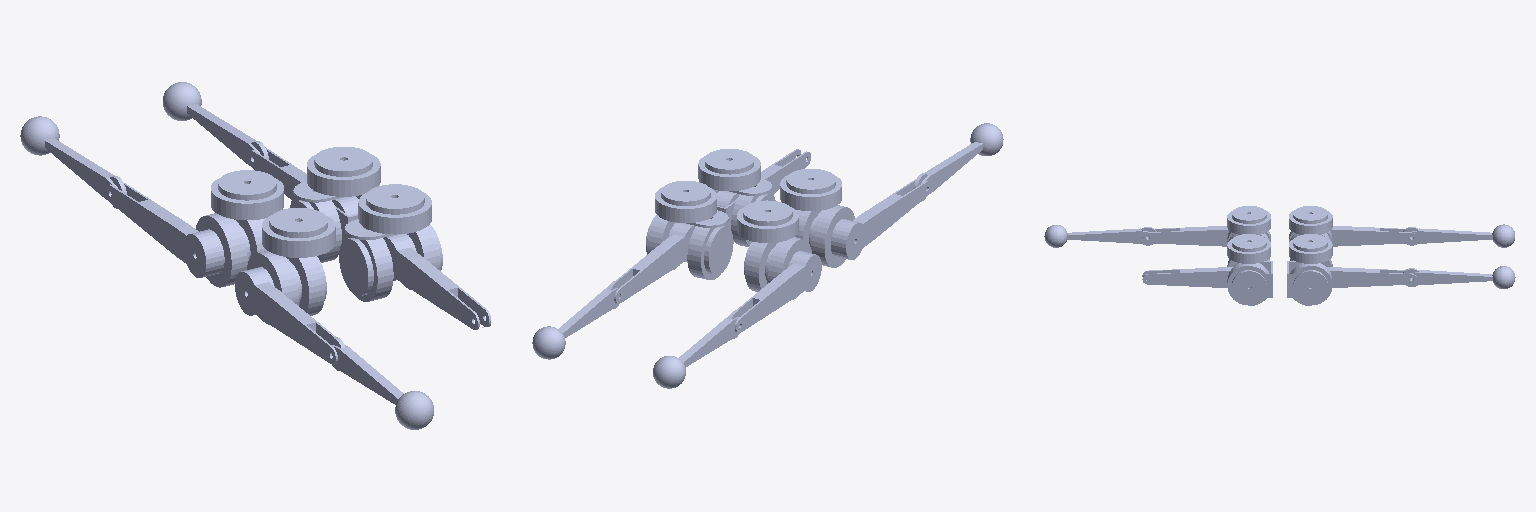
The robot description file, URDF, robot "hexapod_v3":
<?xml version="1.0" encoding="utf-8"?>
<robot name="hexapod_v3">
  <link name="base_link">
    <inertial>
      <origin xyz="0.0012365 5.5511E-17 0.028671" rpy="0 0 0" />
      <mass value="10.399" />
      <inertia ixx="0.055" ixy="0.000" ixz="0.001" iyy="0.132" iyz="0.000" izz="0.160" />
    </inertial>
    <visual>
      <origin xyz="0 0 0" rpy="0 0 0" />
      <geometry>
        <mesh filename="package://hexapod_v3/meshes/base_link.STL" />
      </geometry>
      <material name="">
        <color rgba="1 1 1 1" />
      </material>
    </visual>
    <collision>
      <origin xyz="0 0 0" rpy="0 0 0" />
      <geometry>
        <mesh filename="package://hexapod_v3/meshes/base_link.STL" />
      </geometry>
    </collision>
  </link>

  <!-- 腿 1: 右前 (rf) -->
  <link name="rfl1">
    <inertial>
      <origin xyz="0 0 0.0013145" rpy="0 0 0" />
      <mass value="0.576" />
      <inertia ixx="0.000" ixy="0.000" ixz="0.000" iyy="0.000" iyz="0.000" izz="0.001" />
    </inertial>
    <visual>
      <origin xyz="0 0 0" rpy="0 0 0" />
      <geometry>
        <mesh filename="package://hexapod_v3/meshes/rfl1.STL" />
      </geometry>
      <material name="">
        <color rgba="0.79216 0.81961 0.93333 1" />
      </material>
    </visual>
    <collision>
      <origin xyz="0 0 0" rpy="0 0 0" />
      <geometry>
        <mesh filename="package://hexapod_v3/meshes/rfl1.STL" />
      </geometry>
    </collision>
  </link>
  <joint name="rfj1" type="revolute">
    <origin xyz="0.14185 -0.0655 -0.01975" rpy="0 0 0" />
    <parent link="base_link" />
    <child link="rfl1" />
    <axis xyz="0 0 -1" />
    <limit lower="-6" upper="6" effort="100" velocity="10" />
    <dynamics damping="0.1" friction="0.01" />
  </joint>
  <link name="rfl2">
    <inertial>
      <origin xyz="-0.032218 -0.0039271 6.5393E-07" rpy="0 0 0" />
      <mass value="0.961" />
      <inertia ixx="0.001" ixy="0.000" ixz="0.000" iyy="0.002" iyz="0.000" izz="0.002" />
    </inertial>
    <visual>
      <origin xyz="0 0 0" rpy="0 0 0" />
      <geometry>
        <mesh filename="package://hexapod_v3/meshes/rfl2.STL" />
      </geometry>
      <material name="">
        <color rgba="0.79216 0.81961 0.93333 1" />
      </material>
    </visual>
    <collision>
      <origin xyz="0 0 0" rpy="0 0 0" />
      <geometry>
        <mesh filename="package://hexapod_v3/meshes/rfl2.STL" />
      </geometry>
    </collision>
  </link>
  <joint name="rfj2" type="revolute">
    <origin xyz="0.0385 0 -0.06575" rpy="0 0 0" />
    <parent link="rfl1" />
    <child link="rfl2" />
    <axis xyz="-1 0 0" />
    <limit lower="-6" upper="6" effort="100" velocity="10" />
    <dynamics damping="0.1" friction="0.01" />
  </joint>
  <link name="rfl3">
    <inertial>
      <origin xyz="-5.5511E-17 -0.13449 -2.7756E-17" rpy="0 0 0" />
      <mass value="0.124" />
      <inertia ixx="0.003" ixy="0.000" ixz="0.000" iyy="0.000" iyz="0.000" izz="0.003" />
    </inertial>
    <visual>
      <origin xyz="0 0 0" rpy="0 0 0" />
      <geometry>
        <mesh filename="package://hexapod_v3/meshes/rfl3.STL" />
      </geometry>
      <material name="">
        <color rgba="0.79216 0.81961 0.93333 1" />
      </material>
    </visual>
    <collision>
      <origin xyz="0 0 0" rpy="0 0 0" />
      <geometry>
        <mesh filename="package://hexapod_v3/meshes/rfl3.STL" />
      </geometry>
    </collision>
  </link>
  <joint name="rfj3" type="revolute">
    <origin xyz="0.02875 -0.216 0" rpy="0 0 0" />
    <parent link="rfl2" />
    <child link="rfl3" />
    <axis xyz="1 0 0" />
    <limit lower="-6" upper="6" effort="100" velocity="10" />
    <dynamics damping="0.1" friction="0.01" />
  </joint>

  <link name="leg_0_end" />
  <joint name="leg_0_end_joint" type="fixed">
    <origin xyz="0 -0.2 0" rpy="0 0 0" />
    <parent link="rfl3" />
    <child link="leg_0_end" />
  </joint>

  <!-- 腿 2: 左前 (lf) -->
  <link name="lfl4">
    <inertial>
      <origin xyz="0 2.7756E-17 0.0013145" rpy="0 0 0" />
      <mass value="0.576" />
      <inertia ixx="0.000" ixy="0.000" ixz="0.000" iyy="0.000" iyz="0.000" izz="0.001" />
    </inertial>
    <visual>
      <origin xyz="0 0 0" rpy="0 0 0" />
      <geometry>
        <mesh filename="package://hexapod_v3/meshes/lfl4.STL" />
      </geometry>
      <material name="">
        <color rgba="0.79216 0.81961 0.93333 1" />
      </material>
    </visual>
    <collision>
      <origin xyz="0 0 0" rpy="0 0 0" />
      <geometry>
        <mesh filename="package://hexapod_v3/meshes/lfl4.STL" />
      </geometry>
    </collision>
  </link>
  <joint name="lfj4" type="revolute">
    <origin xyz="0.14185 0.0655 -0.01975" rpy="0 0 0" />
    <parent link="base_link" />
    <child link="lfl4" />
    <axis xyz="0 0 -1" />
    <limit lower="-6" upper="6" effort="100" velocity="10" />
    <dynamics damping="0.1" friction="0.01" />
  </joint>
  <link name="lfl5">
    <inertial>
      <origin xyz="-0.032218 0.0039271 -6.5368E-07" rpy="0 0 0" />
      <mass value="0.961" />
      <inertia ixx="0.001" ixy="0.000" ixz="0.000" iyy="0.002" iyz="0.000" izz="0.002" />
    </inertial>
    <visual>
      <origin xyz="0 0 0" rpy="0 0 0" />
      <geometry>
        <mesh filename="package://hexapod_v3/meshes/lfl5.STL" />
      </geometry>
      <material name="">
        <color rgba="0.79216 0.81961 0.93333 1" />
      </material>
    </visual>
    <collision>
      <origin xyz="0 0 0" rpy="0 0 0" />
      <geometry>
        <mesh filename="package://hexapod_v3/meshes/lfl5.STL" />
      </geometry>
    </collision>
  </link>
  <joint name="lfj5" type="revolute">
    <origin xyz="0.0385 0 -0.06575" rpy="0 0 0" />
    <parent link="lfl4" />
    <child link="lfl5" />
    <axis xyz="-1 0 0" />
    <limit lower="-6" upper="6" effort="100" velocity="10" />
    <dynamics damping="0.1" friction="0.01" />
  </joint>
  <link name="lfl6">
    <inertial>
      <origin xyz="9.1871E-15 0.13449 0.00015249" rpy="0 0 0" />
      <mass value="0.124" />
      <inertia ixx="0.003" ixy="0.000" ixz="0.000" iyy="0.000" iyz="0.000" izz="0.003" />
    </inertial>
    <visual>
      <origin xyz="0 0 0" rpy="0 0 0" />
      <geometry>
        <mesh filename="package://hexapod_v3/meshes/lfl6.STL" />
      </geometry>
      <material name="">
        <color rgba="0.79216 0.81961 0.93333 1" />
      </material>
    </visual>
    <collision>
      <origin xyz="0 0 0" rpy="0 0 0" />
      <geometry>
        <mesh filename="package://hexapod_v3/meshes/lfl6.STL" />
      </geometry>
    </collision>
  </link>
  <joint name="lfj6" type="revolute">
    <origin xyz="0.02875 0.216 0" rpy="0 0 0" />
    <parent link="lfl5" />
    <child link="lfl6" />
    <axis xyz="1 0 0" />
    <limit lower="-6" upper="6" effort="100" velocity="10" />
    <dynamics damping="0.1" friction="0.01" />
  </joint>
  <link name="leg_1_end" />
  <joint name="leg_1_end_joint" type="fixed">
    <origin xyz="0 0.2 0" rpy="0 0 0" />
    <parent link="lfl6" />
    <child link="leg_1_end" />
  </joint>

  <!-- 腿 3: 右中 (rm) -->
  <link name="rml7">
    <inertial>
      <origin xyz="-0.0017584 -1.3878E-17 0.00056229" rpy="0 0 0" />
      <mass value="0.601" />
      <inertia ixx="0.000" ixy="0.000" ixz="0.000" iyy="0.000" iyz="0.000" izz="0.001" />
    </inertial>
    <visual>
      <origin xyz="0 0 0" rpy="0 0 0" />
      <geometry>
        <mesh filename="package://hexapod_v3/meshes/rml7.STL" />
      </geometry>
      <material name="">
        <color rgba="0.79216 0.81961 0.93333 1" />
      </material>
    </visual>
    <collision>
      <origin xyz="0 0 0" rpy="0 0 0" />
      <geometry>
        <mesh filename="package://hexapod_v3/meshes/rml7.STL" />
      </geometry>
    </collision>
  </link>
  <joint name="rmj7" type="revolute">
    <origin xyz="0 -0.0655 -0.01975" rpy="0 0 0" />
    <parent link="base_link" />
    <child link="rml7" />
    <axis xyz="0 0 -1" />
    <limit lower="-6" upper="6" effort="100" velocity="10" />
    <dynamics damping="0.1" friction="0.01" />
  </joint>
  <link name="rml8">
    <inertial>
      <origin xyz="-0.058726 -0.00053289 -5.8777E-07" rpy="0 0 0" />
      <mass value="1.088" />
      <inertia ixx="0.001" ixy="0.000" ixz="0.000" iyy="0.006" iyz="0.000" izz="0.006" />
    </inertial>
    <visual>
      <origin xyz="0 0 0" rpy="0 0 0" />
      <geometry>
        <mesh filename="package://hexapod_v3/meshes/rml8.STL" />
      </geometry>
      <material name="">
        <color rgba="0.79216 0.81961 0.93333 1" />
      </material>
    </visual>
    <collision>
      <origin xyz="0 0 0" rpy="0 0 0" />
      <geometry>
        <mesh filename="package://hexapod_v3/meshes/rml8.STL" />
      </geometry>
    </collision>
  </link>
  <joint name="rmj8" type="revolute">
    <origin xyz="0.02875 0 -0.06575" rpy="0 0 0" />
    <parent link="rml7" />
    <child link="rml8" />
    <axis xyz="1 0 0" />
    <limit lower="-6" upper="6" effort="100" velocity="10" />
    <dynamics damping="0.1" friction="0.01" />
  </joint>
  <link name="rml9">
    <inertial>
      <origin xyz="-9.2149E-15 -0.13449 0.00015249" rpy="0 0 0" />
      <mass value="0.124" />
      <inertia ixx="0.003" ixy="0.000" ixz="0.000" iyy="0.000" iyz="0.000" izz="0.003" />
    </inertial>
    <visual>
      <origin xyz="0 0 0" rpy="0 0 0" />
      <geometry>
        <mesh filename="package://hexapod_v3/meshes/rml9.STL" />
      </geometry>
      <material name="">
        <color rgba="0.79216 0.81961 0.93333 1" />
      </material>
    </visual>
    <collision>
      <origin xyz="0 0 0" rpy="0 0 0" />
      <geometry>
        <mesh filename="package://hexapod_v3/meshes/rml9.STL" />
      </geometry>
    </collision>
  </link>
  <joint name="rmj9" type="revolute">
    <origin xyz="-0.02875 -0.216 0" rpy="0 0 0" />
    <parent link="rml8" />
    <child link="rml9" />
    <axis xyz="-1 0 0" />
    <limit lower="-6" upper="6" effort="100" velocity="10" />
    <dynamics damping="0.1" friction="0.01" />
  </joint>
  <link name="leg_2_end" />
  <joint name="leg_2_end_joint" type="fixed">
    <origin xyz="0 -0.2 0" rpy="0 0 0" />
    <parent link="rml9" />
    <child link="leg_2_end" />
  </joint>

  <!-- 腿 4: 左中 (lm) -->
  <link name="lml10">
    <inertial>
      <origin xyz="-0.0017584 -2.7756E-17 0.00056229" rpy="0 0 0" />
      <mass value="0.601" />
      <inertia ixx="0.000" ixy="0.000" ixz="0.000" iyy="0.000" iyz="0.000" izz="0.001" />
    </inertial>
    <visual>
      <origin xyz="0 0 0" rpy="0 0 0" />
      <geometry>
        <mesh filename="package://hexapod_v3/meshes/lml10.STL" />
      </geometry>
      <material name="">
        <color rgba="0.79216 0.81961 0.93333 1" />
      </material>
    </visual>
    <collision>
      <origin xyz="0 0 0" rpy="0 0 0" />
      <geometry>
        <mesh filename="package://hexapod_v3/meshes/lml10.STL" />
      </geometry>
    </collision>
  </link>
  <joint name="lmj10" type="revolute">
    <origin xyz="0 0.0655 -0.01975" rpy="0 0 0" />
    <parent link="base_link" />
    <child link="lml10" />
    <axis xyz="0 0 -1" />
    <limit lower="-6" upper="6" effort="100" velocity="10" />
    <dynamics damping="0.1" friction="0.01" />
  </joint>
  <link name="lml11">
    <inertial>
      <origin xyz="-0.058726 0.00053289 5.8777E-07" rpy="0 0 0" />
      <mass value="1.088" />
      <inertia ixx="0.001" ixy="0.000" ixz="0.000" iyy="0.006" iyz="0.000" izz="0.006" />
    </inertial>
    <visual>
      <origin xyz="0 0 0" rpy="0 0 0" />
      <geometry>
        <mesh filename="package://hexapod_v3/meshes/lml11.STL" />
      </geometry>
      <material name="">
        <color rgba="0.79216 0.81961 0.93333 1" />
      </material>
    </visual>
    <collision>
      <origin xyz="0 0 0" rpy="0 0 0" />
      <geometry>
        <mesh filename="package://hexapod_v3/meshes/lml11.STL" />
      </geometry>
    </collision>
  </link>
  <joint name="lmj11" type="revolute">
    <origin xyz="0.02875 0 -0.06575" rpy="0 0 0" />
    <parent link="lml10" />
    <child link="lml11" />
    <axis xyz="1 0 0" />
    <limit lower="-6" upper="6" effort="100" velocity="10" />
    <dynamics damping="0.1" friction="0.01" />
  </joint>
  <link name="lml12">
    <inertial>
      <origin xyz="8.6919E-12 0.13449 -0.00015249" rpy="0 0 0" />
      <mass value="0.124" />
      <inertia ixx="0.003" ixy="0.000" ixz="0.000" iyy="0.000" iyz="0.000" izz="0.003" />
    </inertial>
    <visual>
      <origin xyz="0 0 0" rpy="0 0 0" />
      <geometry>
        <mesh filename="package://hexapod_v3/meshes/lml12.STL" />
      </geometry>
      <material name="">
        <color rgba="0.79216 0.81961 0.93333 1" />
      </material>
    </visual>
    <collision>
      <origin xyz="0 0 0" rpy="0 0 0" />
      <geometry>
        <mesh filename="package://hexapod_v3/meshes/lml12.STL" />
      </geometry>
    </collision>
  </link>
  <joint name="lmj12" type="revolute">
    <origin xyz="-0.02875 0.216 0" rpy="0 0 0" />
    <parent link="lml11" />
    <child link="lml12" />
    <axis xyz="-1 0 0" />
    <limit lower="-6" upper="6" effort="100" velocity="10" />
    <dynamics damping="0.1" friction="0.01" />
  </joint>
  <link name="leg_3_end" />
  <joint name="leg_3_end_joint" type="fixed">
    <origin xyz="0 0.2 0" rpy="0 0 0" />
    <parent link="lml12" />
    <child link="leg_3_end" />
  </joint>

  <!-- 腿 5: 右后 (rb) -->
  <link name="rbl13">
    <inertial>
      <origin xyz="0 0 0.0013145" rpy="0 0 0" />
      <mass value="0.576" />
      <inertia ixx="0.000" ixy="0.000" ixz="0.000" iyy="0.000" iyz="0.000" izz="0.001" />
    </inertial>
    <visual>
      <origin xyz="0 0 0" rpy="0 0 0" />
      <geometry>
        <mesh filename="package://hexapod_v3/meshes/rbl13.STL" />
      </geometry>
      <material name="">
        <color rgba="0.79216 0.81961 0.93333 1" />
      </material>
    </visual>
    <collision>
      <origin xyz="0 0 0" rpy="0 0 0" />
      <geometry>
        <mesh filename="package://hexapod_v3/meshes/rbl13.STL" />
      </geometry>
    </collision>
  </link>
  <joint name="rbj13" type="revolute">
    <origin xyz="-0.14185 -0.0655 -0.01975" rpy="0 0 0" />
    <parent link="base_link" />
    <child link="rbl13" />
    <axis xyz="0 0 -1" />
    <limit lower="-6" upper="6" effort="100" velocity="10" />
    <dynamics damping="0.1" friction="0.01" />
  </joint>
  <link name="rbl14">
    <inertial>
      <origin xyz="0.032218 -0.0039271 -6.5368E-07" rpy="0 0 0" />
      <mass value="0.961" />
      <inertia ixx="0.001" ixy="0.000" ixz="0.000" iyy="0.002" iyz="0.000" izz="0.002" />
    </inertial>
    <visual>
      <origin xyz="0 0 0" rpy="0 0 0" />
      <geometry>
        <mesh filename="package://hexapod_v3/meshes/rbl14.STL" />
      </geometry>
      <material name="">
        <color rgba="0.79216 0.81961 0.93333 1" />
      </material>
    </visual>
    <collision>
      <origin xyz="0 0 0" rpy="0 0 0" />
      <geometry>
        <mesh filename="package://hexapod_v3/meshes/rbl14.STL" />
      </geometry>
    </collision>
  </link>
  <joint name="rbj14" type="revolute">
    <origin xyz="-0.0385 0 -0.06575" rpy="0 0 0" />
    <parent link="rbl13" />
    <child link="rbl14" />
    <axis xyz="1 0 0" />
    <limit lower="-6" upper="6" effort="100" velocity="10" />
    <dynamics damping="0.1" friction="0.01" />
  </joint>
  <link name="rbl15">
    <inertial>
      <origin xyz="-8.699E-12 -0.13449 -4.4688E-05" rpy="0 0 0" />
      <mass value="0.124" />
      <inertia ixx="0.003" ixy="0.000" ixz="0.000" iyy="0.000" iyz="0.000" izz="0.003" />
    </inertial>
    <visual>
      <origin xyz="0 0 0" rpy="0 0 0" />
      <geometry>
        <mesh filename="package://hexapod_v3/meshes/rbl15.STL" />
      </geometry>
      <material name="">
        <color rgba="0.79216 0.81961 0.93333 1" />
      </material>
    </visual>
    <collision>
      <origin xyz="0 0 0" rpy="0 0 0" />
      <geometry>
        <mesh filename="package://hexapod_v3/meshes/rbl15.STL" />
      </geometry>
    </collision>
  </link>
  <joint name="rbj15" type="revolute">
    <origin xyz="-0.02875 -0.216 0" rpy="0 0 0" />
    <parent link="rbl14" />
    <child link="rbl15" />
    <axis xyz="-1 0 0" />
    <limit lower="-6" upper="6" effort="100" velocity="10" />
    <dynamics damping="0.1" friction="0.01" />
  </joint>
  <link name="leg_4_end" />
  <joint name="leg_4_end_joint" type="fixed">
    <origin xyz="0 -0.2 0" rpy="0 0 0" />
    <parent link="rbl15" />
    <child link="leg_4_end" />
  </joint>

  <!-- 腿 6: 左后 (lb) -->
  <link name="lbl16">
    <inertial>
      <origin xyz="0 0 0.0013145" rpy="0 0 0" />
      <mass value="0.576" />
      <inertia ixx="0.000" ixy="0.000" ixz="0.000" iyy="0.000" iyz="0.000" izz="0.001" />
    </inertial>
    <visual>
      <origin xyz="0 0 0" rpy="0 0 0" />
      <geometry>
        <mesh filename="package://hexapod_v3/meshes/lbl16.STL" />
      </geometry>
      <material name="">
        <color rgba="0.79216 0.81961 0.93333 1" />
      </material>
    </visual>
    <collision>
      <origin xyz="0 0 0" rpy="0 0 0" />
      <geometry>
        <mesh filename="package://hexapod_v3/meshes/lbl16.STL" />
      </geometry>
    </collision>
  </link>
  <joint name="lbj16" type="revolute">
    <origin xyz="-0.14185 0.0655 -0.01975" rpy="0 0 0" />
    <parent link="base_link" />
    <child link="lbl16" />
    <axis xyz="0 0 -1" />
    <limit lower="-6" upper="6" effort="100" velocity="10" />
    <dynamics damping="0.1" friction="0.01" />
  </joint>
  <link name="lbl17">
    <inertial>
      <origin xyz="0.032218 0.0039271 6.5393E-07" rpy="0 0 0" />
      <mass value="0.961" />
      <inertia ixx="0.001" ixy="0.000" ixz="0.000" iyy="0.002" iyz="0.000" izz="0.002" />
    </inertial>
    <visual>
      <origin xyz="0 0 0" rpy="0 0 0" />
      <geometry>
        <mesh filename="package://hexapod_v3/meshes/lbl17.STL" />
      </geometry>
      <material name="">
        <color rgba="0.79216 0.81961 0.93333 1" />
      </material>
    </visual>
    <collision>
      <origin xyz="0 0 0" rpy="0 0 0" />
      <geometry>
        <mesh filename="package://hexapod_v3/meshes/lbl17.STL" />
      </geometry>
    </collision>
  </link>
  <joint name="lbj17" type="revolute">
    <origin xyz="-0.0385 0 -0.06575" rpy="0 0 0" />
    <parent link="lbl16" />
    <child link="lbl17" />
    <axis xyz="1 0 0" />
    <limit lower="-6" upper="6" effort="100" velocity="10" />
    <dynamics damping="0.1" friction="0.01" />
  </joint>
  <link name="lbl18">
    <inertial>
      <origin xyz="7.9936E-15 0.13449 0.00011183" rpy="0 0 0" />
      <mass value="0.124" />
      <inertia ixx="0.003" ixy="0.000" ixz="0.000" iyy="0.000" iyz="0.000" izz="0.003" />
    </inertial>
    <visual>
      <origin xyz="0 0 0" rpy="0 0 0" />
      <geometry>
        <mesh filename="package://hexapod_v3/meshes/lbl18.STL" />
      </geometry>
      <material name="">
        <color rgba="0.79216 0.81961 0.93333 1" />
      </material>
    </visual>
    <collision>
      <origin xyz="0 0 0" rpy="0 0 0" />
      <geometry>
        <mesh filename="package://hexapod_v3/meshes/lbl18.STL" />
      </geometry>
    </collision>
  </link>
  <joint name="lbj18" type="revolute">
    <origin xyz="-0.02875 0.216 0" rpy="0 0 0" />
    <parent link="lbl17" />
    <child link="lbl18" />
    <axis xyz="-1 0 0" />
    <limit lower="-6" upper="6" effort="100" velocity="10" />
    <dynamics damping="0.1" friction="0.01" />
  </joint>
  <link name="leg_5_end" />
  <joint name="leg_5_end_joint" type="fixed">
    <origin xyz="0 0.2 0" rpy="0 0 0" />
    <parent link="lbl18" />
    <child link="leg_5_end" />
  </joint>

  <!-- 保留原有的 transmission 和 gazebo 插件 -->
  <transmission name="trans_lfj4">
    <type>transmission_interface/SimpleTransmission</type>
    <joint name="lfj4">
      <hardwareInterface>hardware_interface/EffortJointInterface</hardwareInterface>
    </joint>
    <actuator name="lfj4_motor">
      <hardwareInterface>hardware_interface/EffortJointInterface</hardwareInterface>
      <mechanicalReduction>1</mechanicalReduction>
    </actuator>
  </transmission>
  <!-- ... 其他 transmission 标签保持不变 ... -->
  <transmission name="trans_lbj18">
    <type>transmission_interface/SimpleTransmission</type>
    <joint name="lbj18">
      <hardwareInterface>hardware_interface/EffortJointInterface</hardwareInterface>
    </joint>
    <actuator name="lbj18_motor">
      <hardwareInterface>hardware_interface/EffortJointInterface</hardwareInterface>
      <mechanicalReduction>1</mechanicalReduction>
    </actuator>
  </transmission>

  <gazebo>
    <plugin name="imu_plugin" filename="libgazebo_ros_imu.so">
      <alwaysOn>true</alwaysOn>
      <bodyName>base_link</bodyName>
      <topicName>imu</topicName>
      <serviceName>imu_service</serviceName>
      <gaussianNoise>0.0</gaussianNoise>
      <xyzOffset>0 0 0</xyzOffset>
      <rpyOffset>0 0 0</rpyOffset>
      <frameName>base_link</frameName>
      <updateRate>500.0</updateRate>
    </plugin>
    <plugin name="POS_COM" filename="libgazebo_ros_p3d.so">
      <alwaysOn>true</alwaysOn>
      <updateRate>500.0</updateRate>
      <bodyName>base_link</bodyName>
      <topicName>POS_COM</topicName>
      <gaussianNoise>0.0</gaussianNoise>
      <frameName>map</frameName>
      <xyzOffsets>0 0 0</xyzOffsets>
      <rpyOffsets>0 0 0</rpyOffsets>
    </plugin>
  </gazebo>

  <gazebo>
    <plugin name="gazebo_ros_control" filename="libgazebo_ros_control.so">
      <robotNamespace>/hexapod_v3</robotNamespace>
      <robotSimType>gazebo_ros_control/DefaultRobotHWSim</robotSimType>
    </plugin>
  </gazebo>
</robot>

--- What the picture shows (computed from the rendered views, not written in the file) ---
3 views of the same robot in one strip: view 1: azimuth 30°, elevation 25°; view 2: azimuth 150°, elevation 25°; view 3: azimuth 270°, elevation 25° (orthographic).
Model hexapod_v3 with 25 links and 24 joints (18 revolute, 6 fixed), rooted at base_link, posed all joints at 0.
Links seen in each view (by area): view 1: rml8, lbl17, rbl14, rml7, lml10, rbl13, lbl16, rbl15, lml11, lbl18, lml12; view 2: lml11, rbl14, lbl17, rml7, lml10, lbl16, rbl13, lml12, lbl18, rml8, rbl15; view 3: rml8, lml11, rbl14, lbl17, lml12, lbl18, rbl15, rml7, lml10, rbl13, lbl16.
Link boxes in pixels (x1,y1,x2,y2): rml8: [339, 225, 490, 329]; lbl17: [105, 183, 266, 287]; rbl14: [235, 251, 337, 364]; rml7: [345, 184, 431, 239]; lml10: [293, 147, 380, 202]; rbl13: [262, 208, 335, 257]; lbl16: [211, 170, 283, 219]; rbl15: [328, 337, 433, 429]; lml11: [248, 147, 379, 262]; lbl18: [20, 116, 126, 208]; lml12: [163, 82, 268, 165]; lml11: [607, 215, 733, 303]; rbl14: [795, 179, 930, 267]; lbl17: [728, 237, 821, 333]; rml7: [698, 149, 771, 195]; lml10: [655, 181, 728, 227]; lbl16: [737, 200, 798, 242]; rbl13: [780, 169, 841, 210]; lml12: [532, 281, 621, 359]; lbl18: [653, 310, 742, 388]; rml8: [713, 149, 810, 246]; rbl15: [913, 123, 1003, 201]; rml8: [1142, 259, 1272, 305]; lml11: [1287, 259, 1417, 305]; rbl14: [1142, 226, 1270, 258]; lbl17: [1289, 226, 1417, 258]; lml12: [1403, 266, 1515, 288]; lbl18: [1403, 224, 1514, 247]; rbl15: [1044, 225, 1156, 247]; rml7: [1227, 234, 1270, 263]; lml10: [1289, 234, 1332, 263]; rbl13: [1227, 206, 1270, 234]; lbl16: [1289, 206, 1332, 234].
Bounding box of the posed robot: 0.2826 × 1 × 0.1325 m (x, y, z).
Meshes: 19 distinct files referenced, 11 mesh visuals loaded (11 binary STL); not drawn: 8 (reference not matched to a file when rendering).
